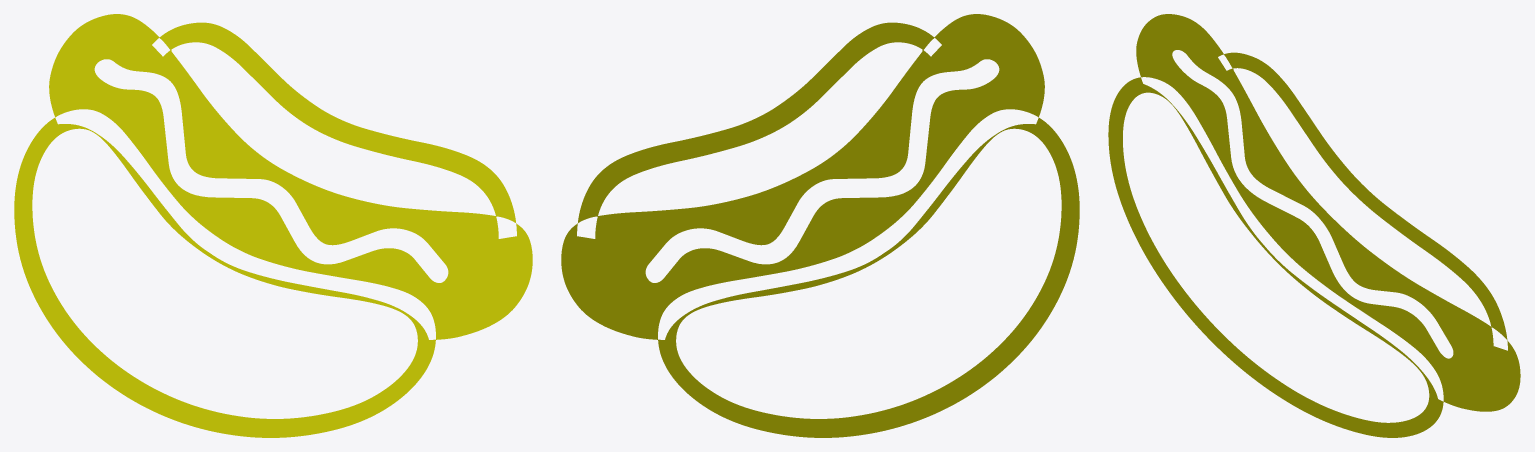
The model's file is hotdog.glb.
The picture shows the model from 3 angles, left to right: view 1: azimuth 30°, elevation 25°; view 2: azimuth 150°, elevation 25°; view 3: azimuth 330°, elevation 25°; orthographic projection. The views are drawn at different scales.
Visible parts, largest first — view 1: Text.573_573; view 2: Text.573_573; view 3: Text.573_573.
Boxes of the visible parts, x1,y1,x2,y2 form: Text.573_573: (14,14,532,437); Text.573_573: (561,14,1079,437); Text.573_573: (1108,14,1520,437).
Bounding box in the file's own units: 1.12 × 0.967 × 3.42e-06.
